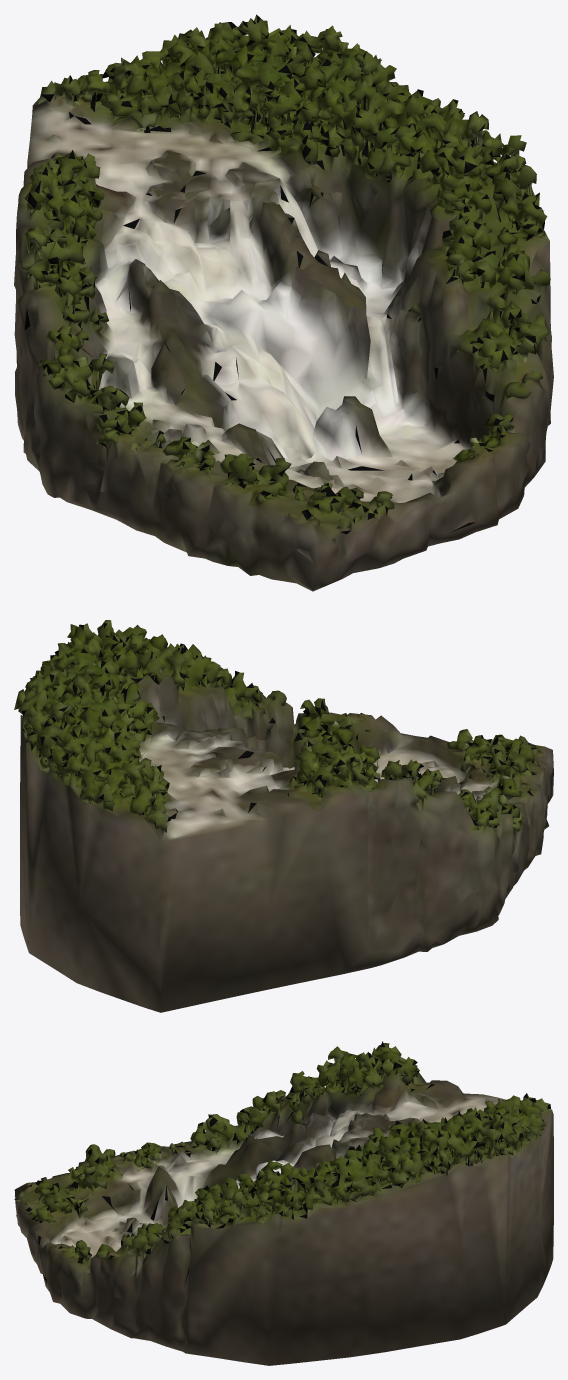
File: barron-falls.glb
The picture shows the model from 3 angles, top to bottom: view 1: azimuth 30°, elevation 25°; view 2: azimuth 150°, elevation 25°; view 3: azimuth 270°, elevation 25°; orthographic projection. The views are drawn at different scales.
Parts seen in each view (by area): view 1: Model; view 2: Model; view 3: Model.
Boxes of the visible parts, x1,y1,x2,y2 form: Model: [14, 14, 553, 591]; Model: [14, 620, 553, 1012]; Model: [14, 1041, 553, 1365].
Bounding box in the file's own units: 1.45 × 0.7992 × 1.9.
Materials: 1 (1 with a texture image).
